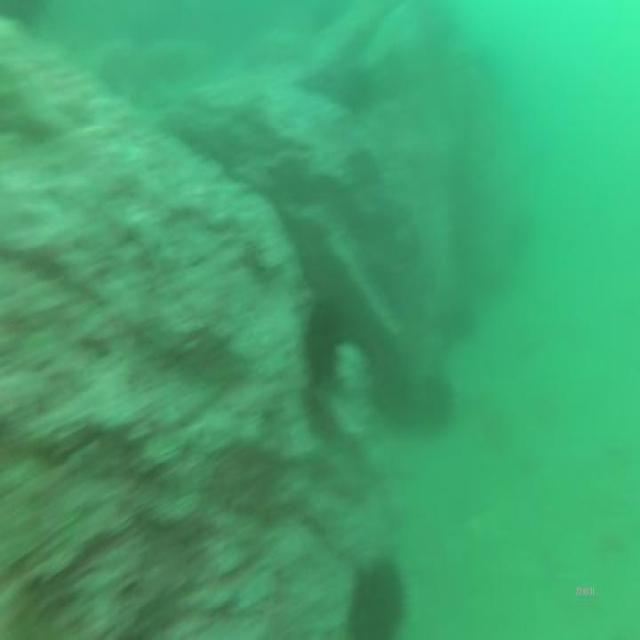echinus: (345, 553, 407, 640), (304, 300, 341, 384), (423, 367, 457, 438)
